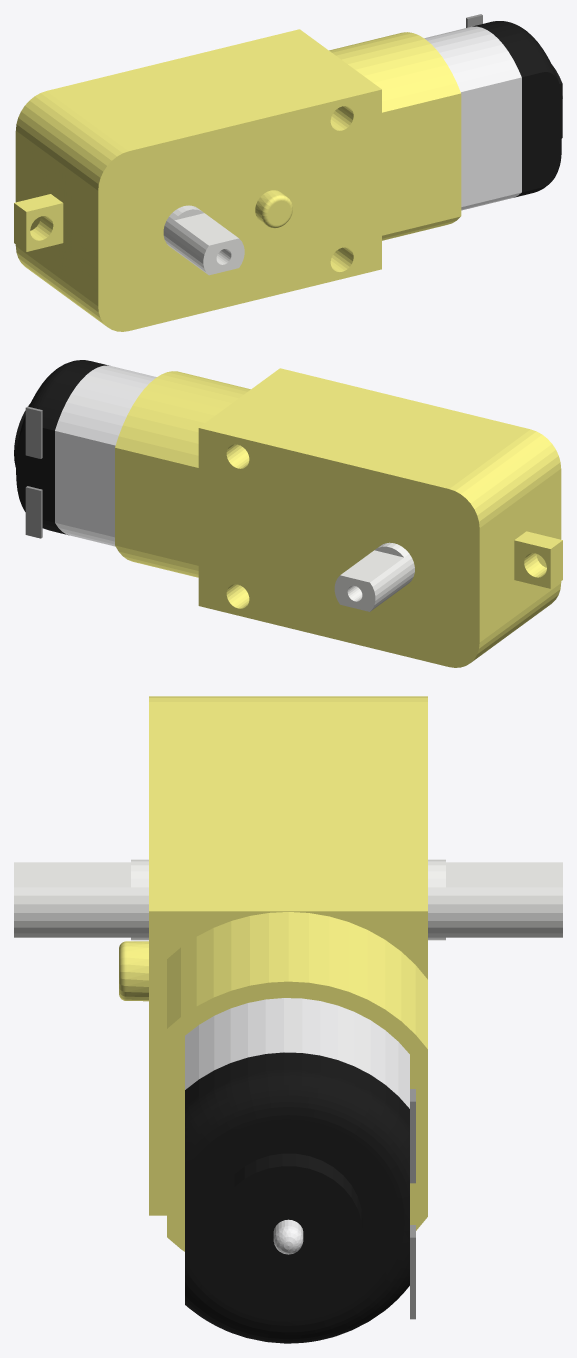
Rendered from adafruit-3777-tt-motor.glb.
The picture shows the model from 3 angles, top to bottom: view 1: azimuth 30°, elevation 25°; view 2: azimuth 150°, elevation 25°; view 3: azimuth 270°, elevation 25°; orthographic projection. The views are drawn at different scales.
Visible parts, largest first — view 1: colour 1, colour 3, colour 4, colour 2; view 2: colour 1, colour 3, colour 4, colour 2, colour 5; view 3: colour 1, colour 4, colour 2, colour 3, colour 5.
Part boxes in pixels (x1,y1,x2,y2): colour 1: (14,29,461,331); colour 3: (424,26,562,210); colour 4: (472,21,562,197); colour 2: (163,205,244,275); colour 1: (115,368,562,667); colour 3: (55,365,156,546); colour 4: (14,360,108,535); colour 2: (334,542,414,611); colour 5: (25,406,42,538); colour 1: (119,696,427,1251); colour 4: (185,1052,409,1343); colour 2: (14,859,562,940); colour 3: (185,998,409,1254); colour 5: (410,1089,415,1319).
Bounding box in the file's own units: 0.0706 × 0.0224 × 0.0366.
